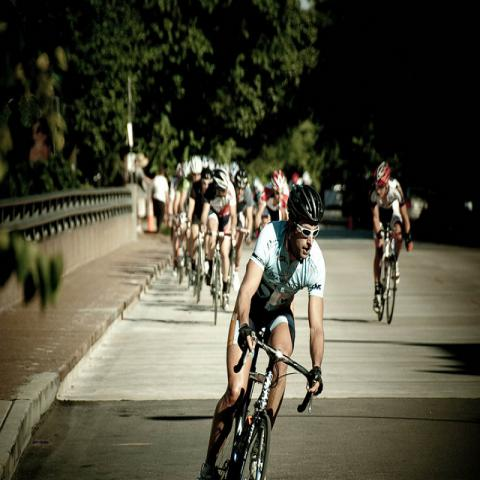car: (403, 176, 478, 240)
